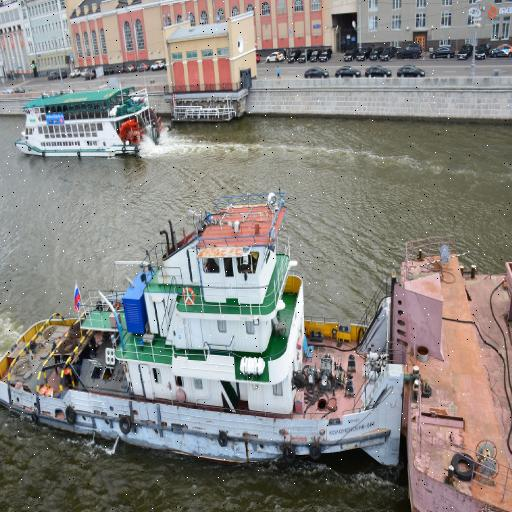tugboat: (1, 187, 406, 485)
